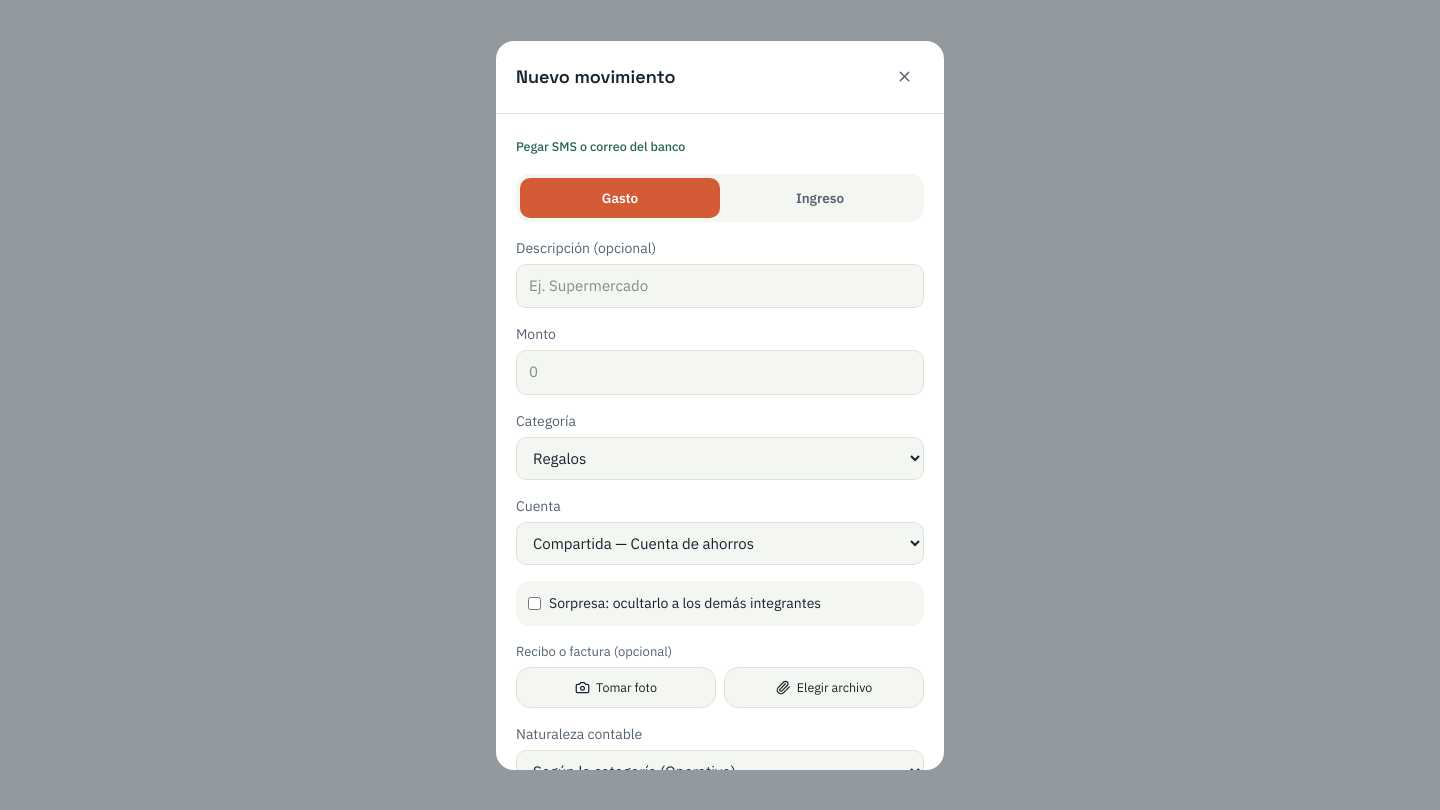
Test: Movimiento sorpresa — nuevo › se ofrece solo en cuentas compartidas
Expected: the checkbox labelled "Sorpresa: ocultarlo a los demás integrantes" is shown, [528,596,541,610]
Select "Mi nómina — Cuenta de ahorros" in the dropdown showing "Cuenta" at (720, 543), box [516,522,924,564]
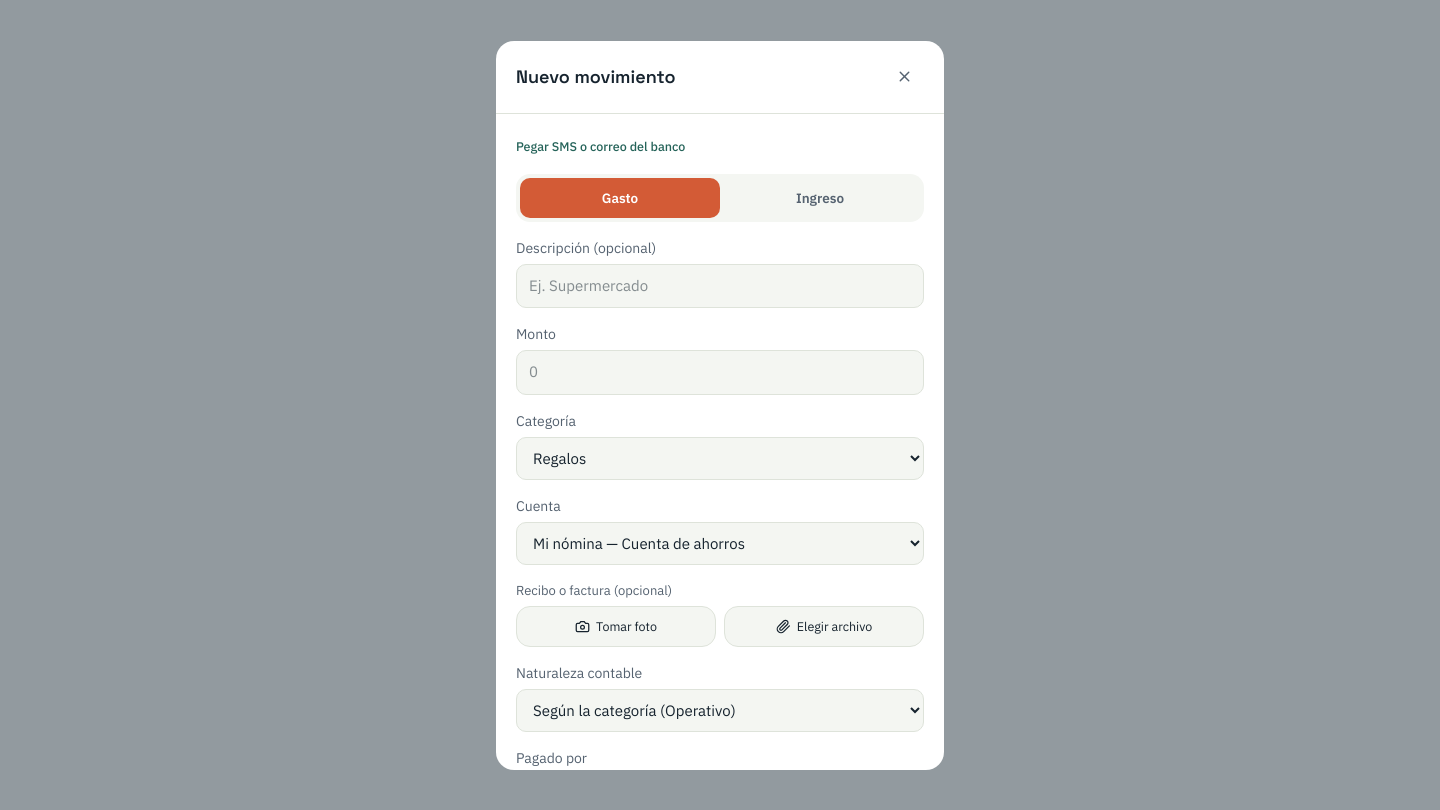
Expected: the text labelled "Sorpresa: ocultarlo" is gone
